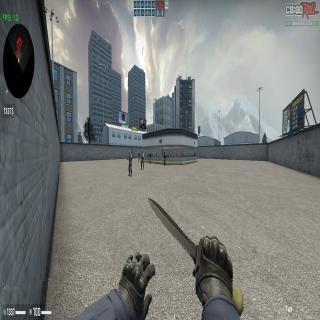CT-Body: (128, 150, 132, 176), (140, 151, 144, 170), (163, 151, 166, 166), (193, 152, 196, 155), (171, 152, 173, 155), (182, 152, 184, 155), (151, 152, 153, 155)
CT-Head: (129, 150, 131, 155), (141, 150, 143, 154), (164, 151, 165, 154), (194, 152, 195, 153), (152, 152, 152, 154), (172, 152, 172, 153), (182, 152, 182, 154)
T-Body: (149, 152, 151, 164), (138, 152, 140, 163), (176, 152, 178, 155), (156, 152, 157, 155)
T-Head: (156, 152, 157, 154), (139, 152, 140, 154), (177, 152, 177, 154), (150, 152, 150, 154)
